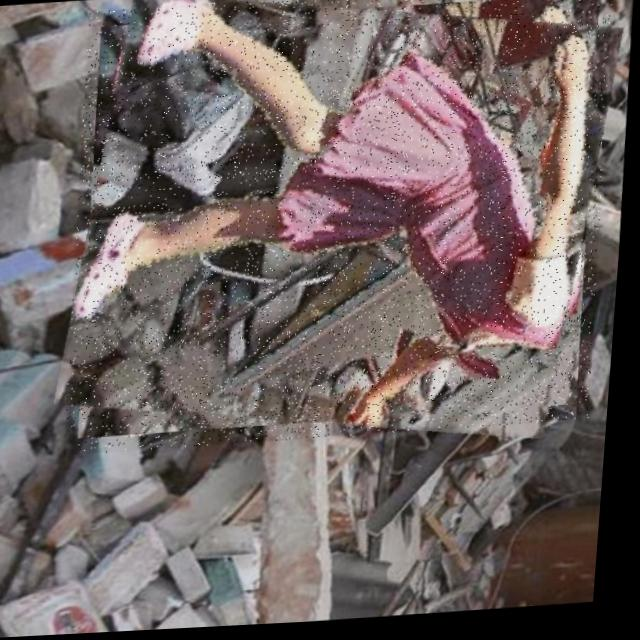Person in Rubble: (62, 0, 620, 456)
